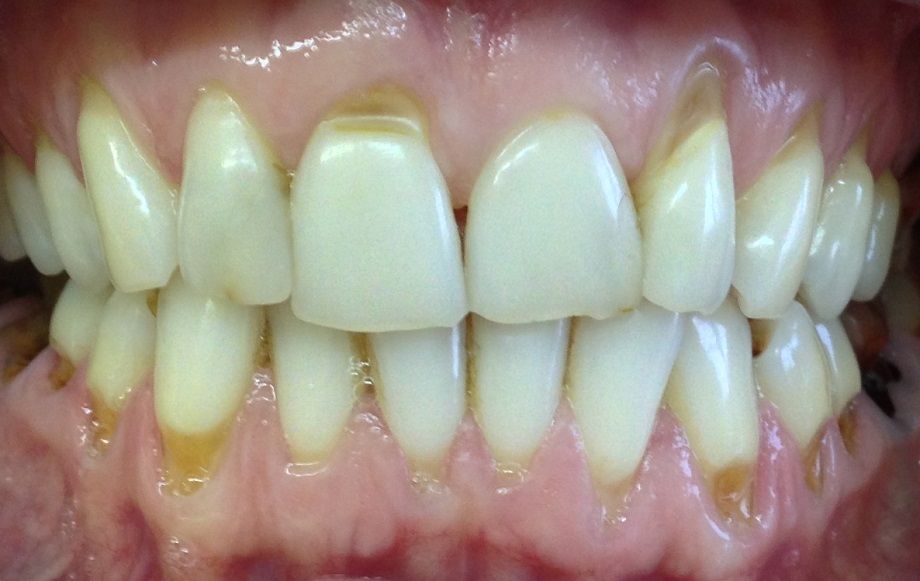LL1BC_decay: (752, 313, 835, 494)
LLCI_healthy: (468, 315, 575, 478)
LLC_decay: (659, 313, 754, 513)
LLLI_healthy: (566, 309, 686, 497)
LR1BC_decay: (84, 294, 152, 446)
LR2BC_decay: (44, 288, 100, 392)
LRCI_healthy: (366, 332, 472, 487)
LRC_decay: (152, 304, 259, 494)
LRLI_healthy: (268, 332, 365, 462)
UL1BC_decay: (801, 125, 880, 320)
ULCI_healthy: (459, 83, 647, 322)
ULC_decay: (736, 109, 822, 314)
ULLI_decay: (636, 44, 733, 312)
UR1BC_healthy: (32, 127, 110, 292)
URCI_decay: (287, 81, 466, 332)
URC_healthy: (75, 72, 187, 292)
URLI_healthy: (180, 80, 286, 304)
